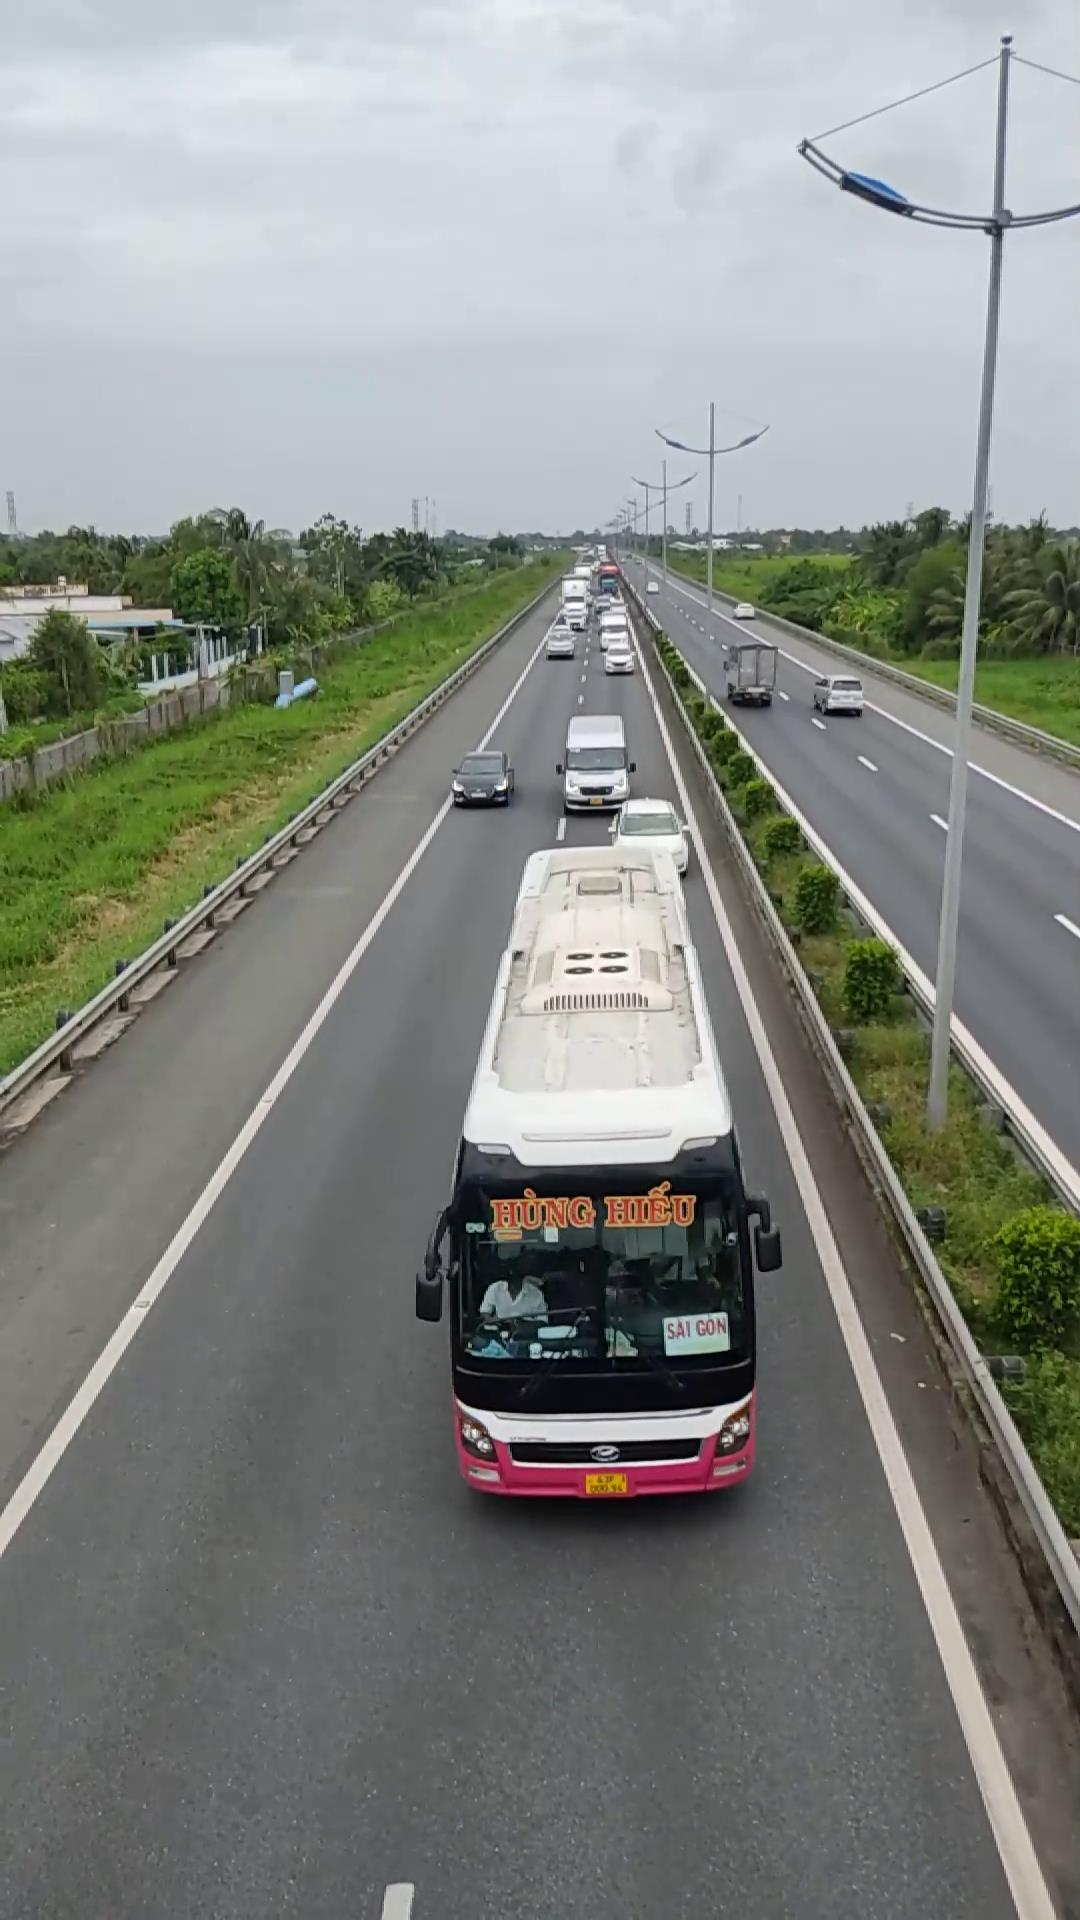bus: (415, 814, 777, 1501)
car: (558, 713, 634, 815)
